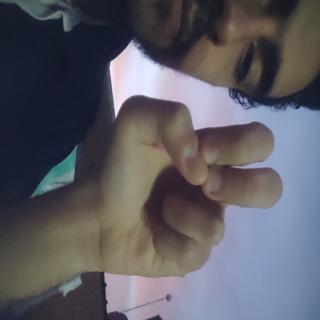QAAF: (67, 47, 219, 320)
